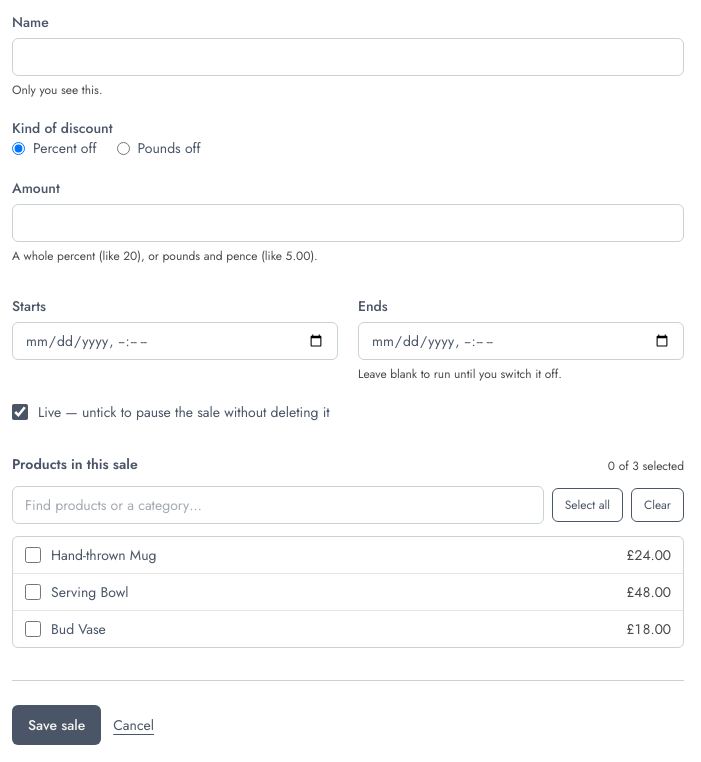
it: SaleForm › clears every product at once
Click the button "Select all": (587,505) [552,488,623,522]
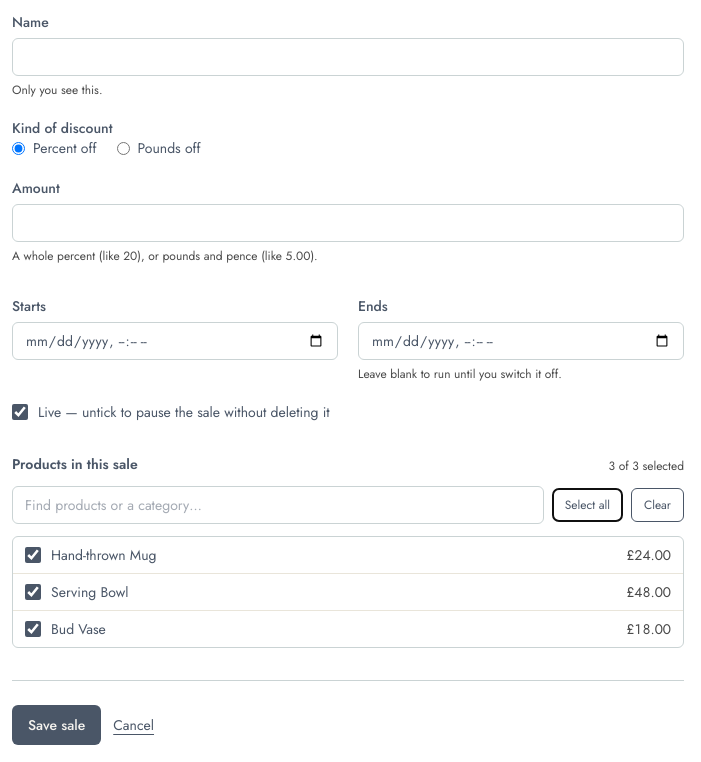
Click the button "Clear": (657,505) [631,488,684,522]
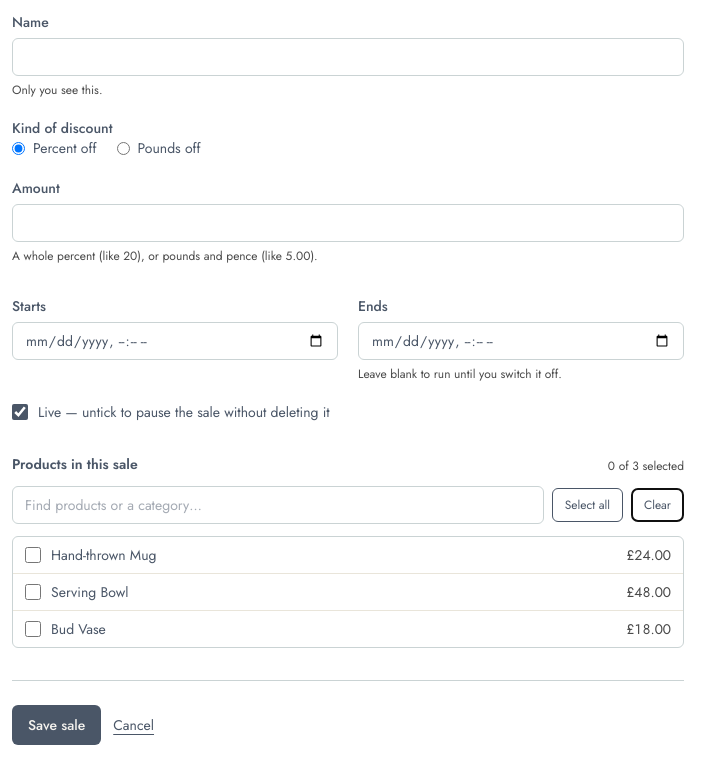
Expected: the checkbox labelled "Hand-thrown Mug £24.00" is not checked, [25,547,41,563]
Expected: the checkbox labelled "Serving Bowl £48.00" is not checked, [25,584,41,600]
Expected: the checkbox labelled "Bud Vase £18.00" is not checked, [25,621,41,637]
